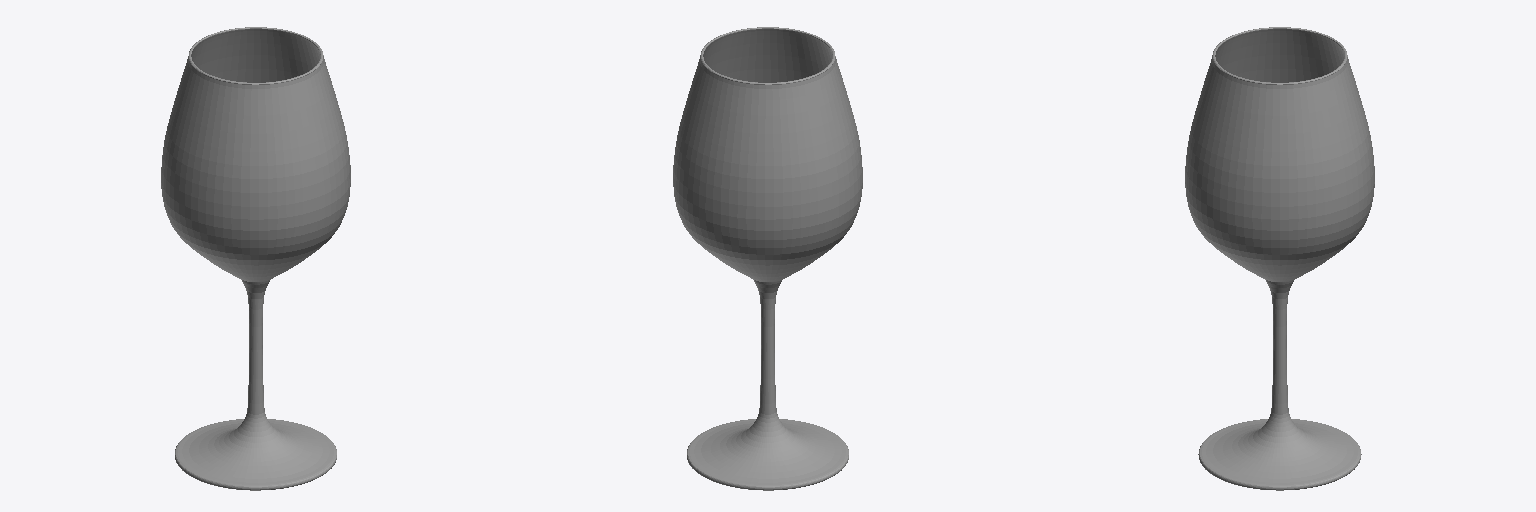
The model's file is wineglass.obj.
3 renders of one model, left to right at view 1: azimuth 30°, elevation 25°; view 2: azimuth 150°, elevation 25°; view 3: azimuth 270°, elevation 25°, orthographic.
Visible parts, largest first — view 1: Cylinder; view 2: Cylinder; view 3: Cylinder.
Boxes of the visible parts, <box> form: Cylinder: <box>161,27,350,490</box>; Cylinder: <box>673,27,862,490</box>; Cylinder: <box>1185,27,1374,490</box>.
Bounding box in the file's own units: 0.8287 × 1.93 × 0.8287.